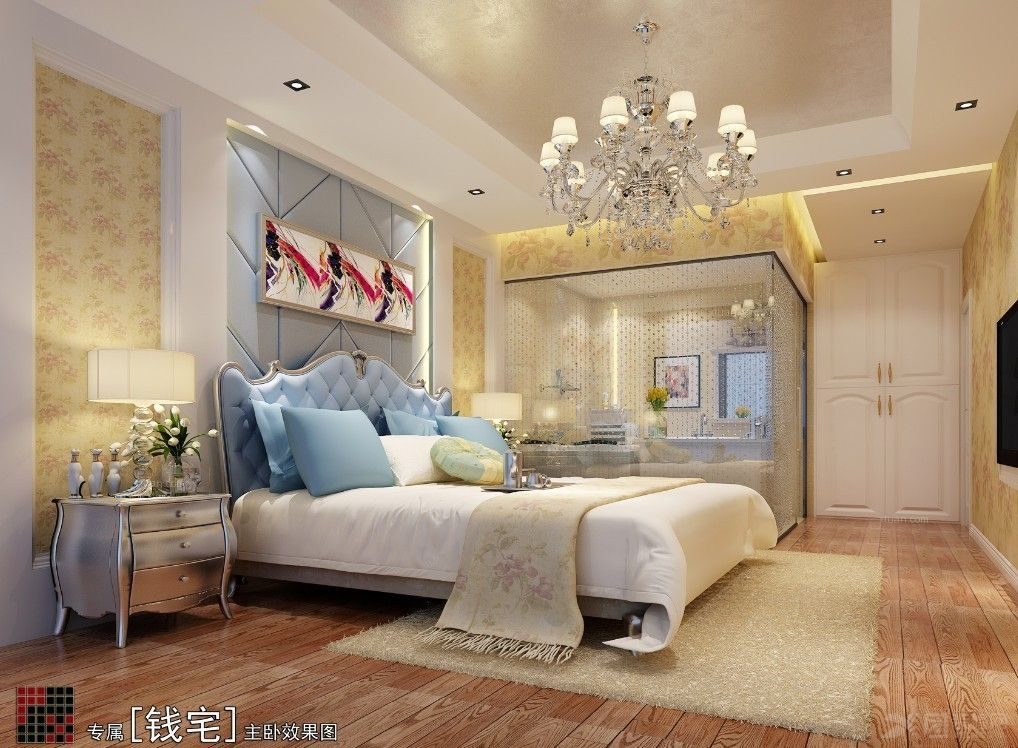床: (225, 464, 755, 641)
枕头: (244, 402, 519, 493)
灯: (530, 24, 766, 246), (77, 342, 195, 494), (464, 391, 519, 440), (279, 76, 311, 97), (944, 99, 973, 116), (462, 186, 489, 204), (868, 202, 889, 222), (873, 230, 890, 249), (826, 167, 849, 181)
